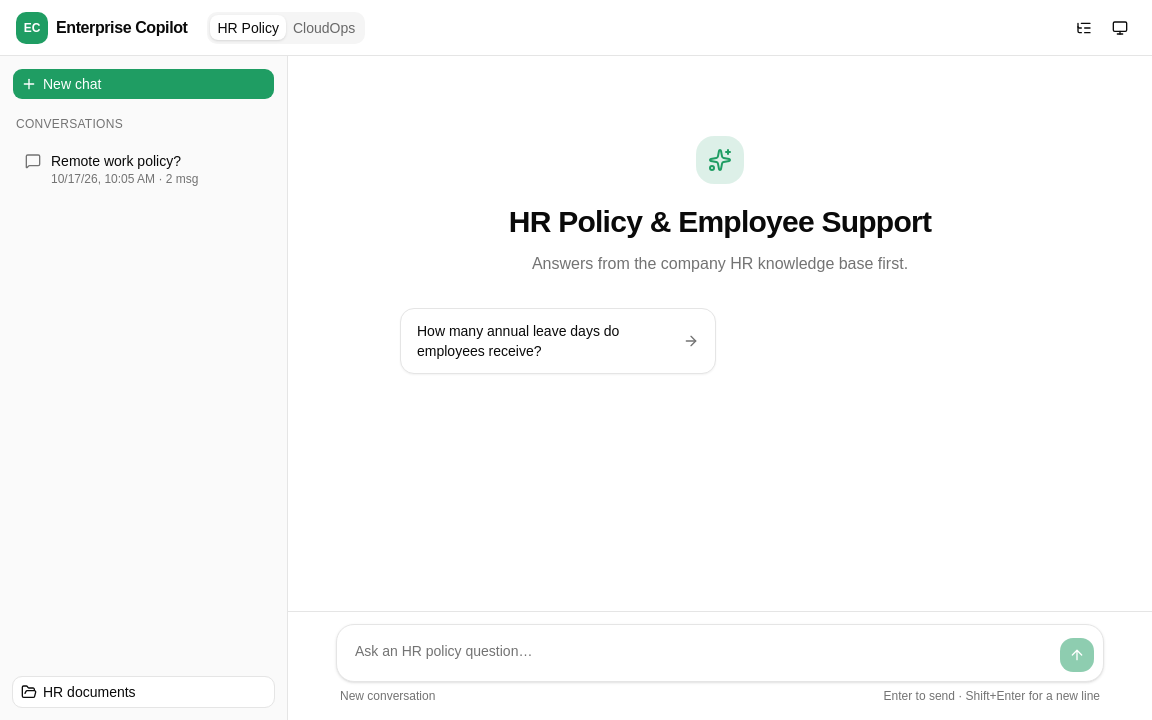
ChatPage › shows the CloudOps tab and the incident triage
Click the tab "CloudOps" at (324, 28), box [286,15,362,40]
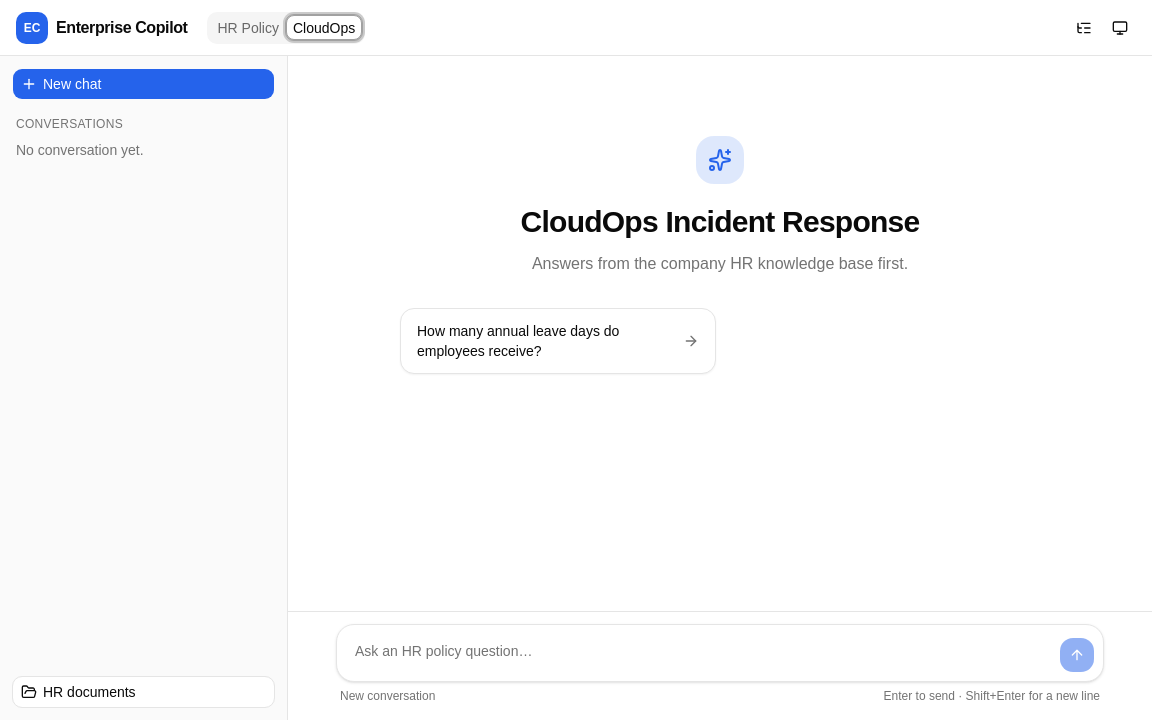
Expected: the heading "CloudOps Incident Response" is shown, [521,204,920,240]
Type "checkout 502 after deploy" into the text box named "Your question" at (698, 653), box [345,633,1051,673]
Then press Enter
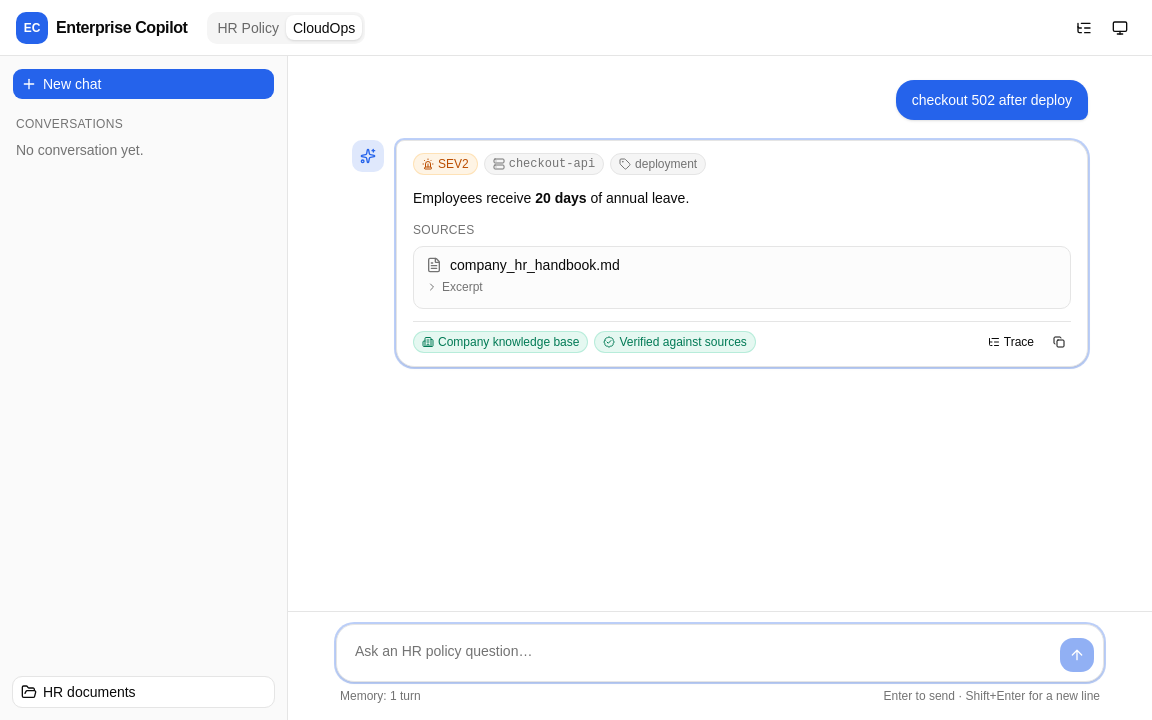
Expected: the text "SEV2" is shown, [413,153,478,175]
Expected: the text "checkout-api" is shown, [484,153,604,175]
